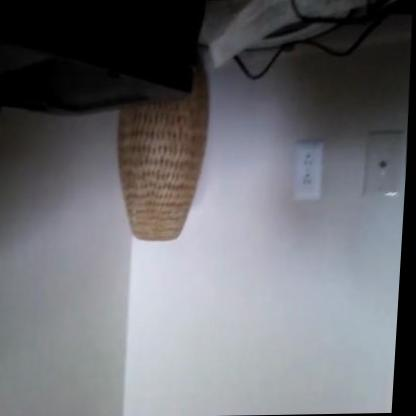OUTLET: (293, 145, 324, 200)
